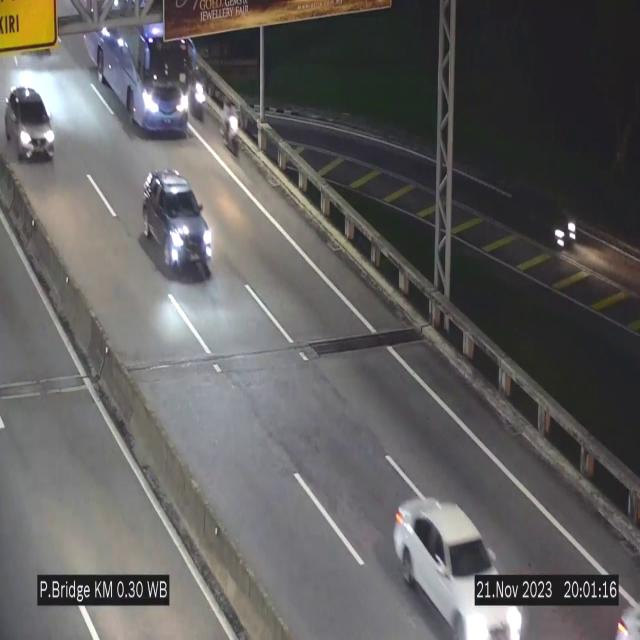Bus: (91, 24, 187, 133)
Car: (394, 498, 522, 640), (142, 169, 212, 275), (512, 176, 584, 257), (3, 83, 58, 165)
Motorcycle: (224, 98, 247, 164), (190, 69, 207, 125)
